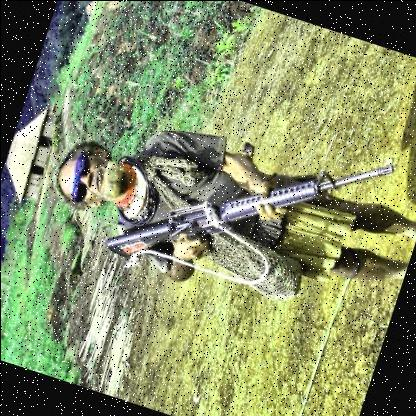rifle: (100, 88, 396, 330)
